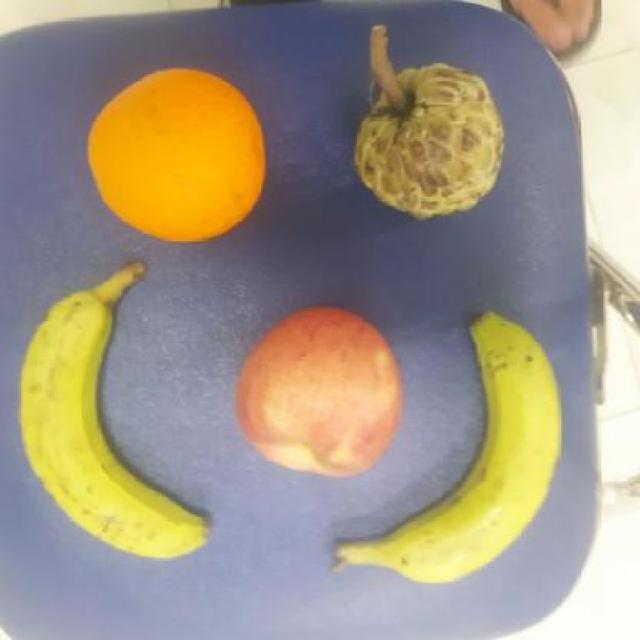apple: (235, 307, 402, 478)
banana: (330, 314, 562, 586), (17, 259, 211, 559)
oren: (87, 68, 267, 244)
sugar apple: (352, 65, 503, 220)
